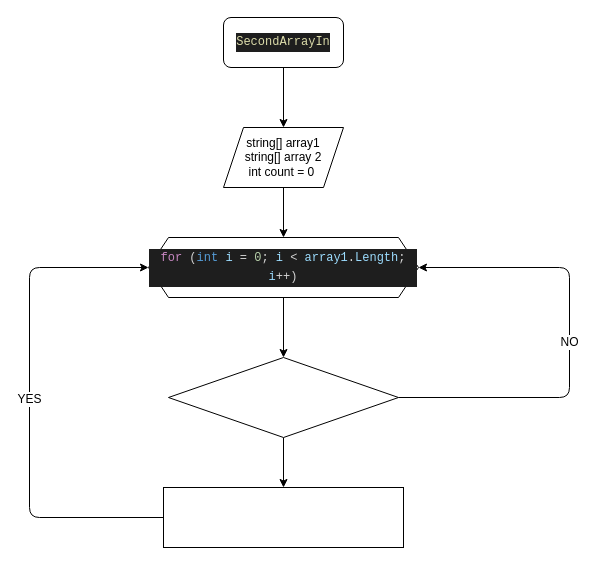
This 595x565 diagram has some shape labels left out. The shapes that lost their labels are listed below. From the top down, each one's centre as x and y in pixels, then its label:
point 283,397: if ( array1 [ i ]. Length <= 3 )
point 283,517: array2 [ count ] = array1 [ i ]; count ++
